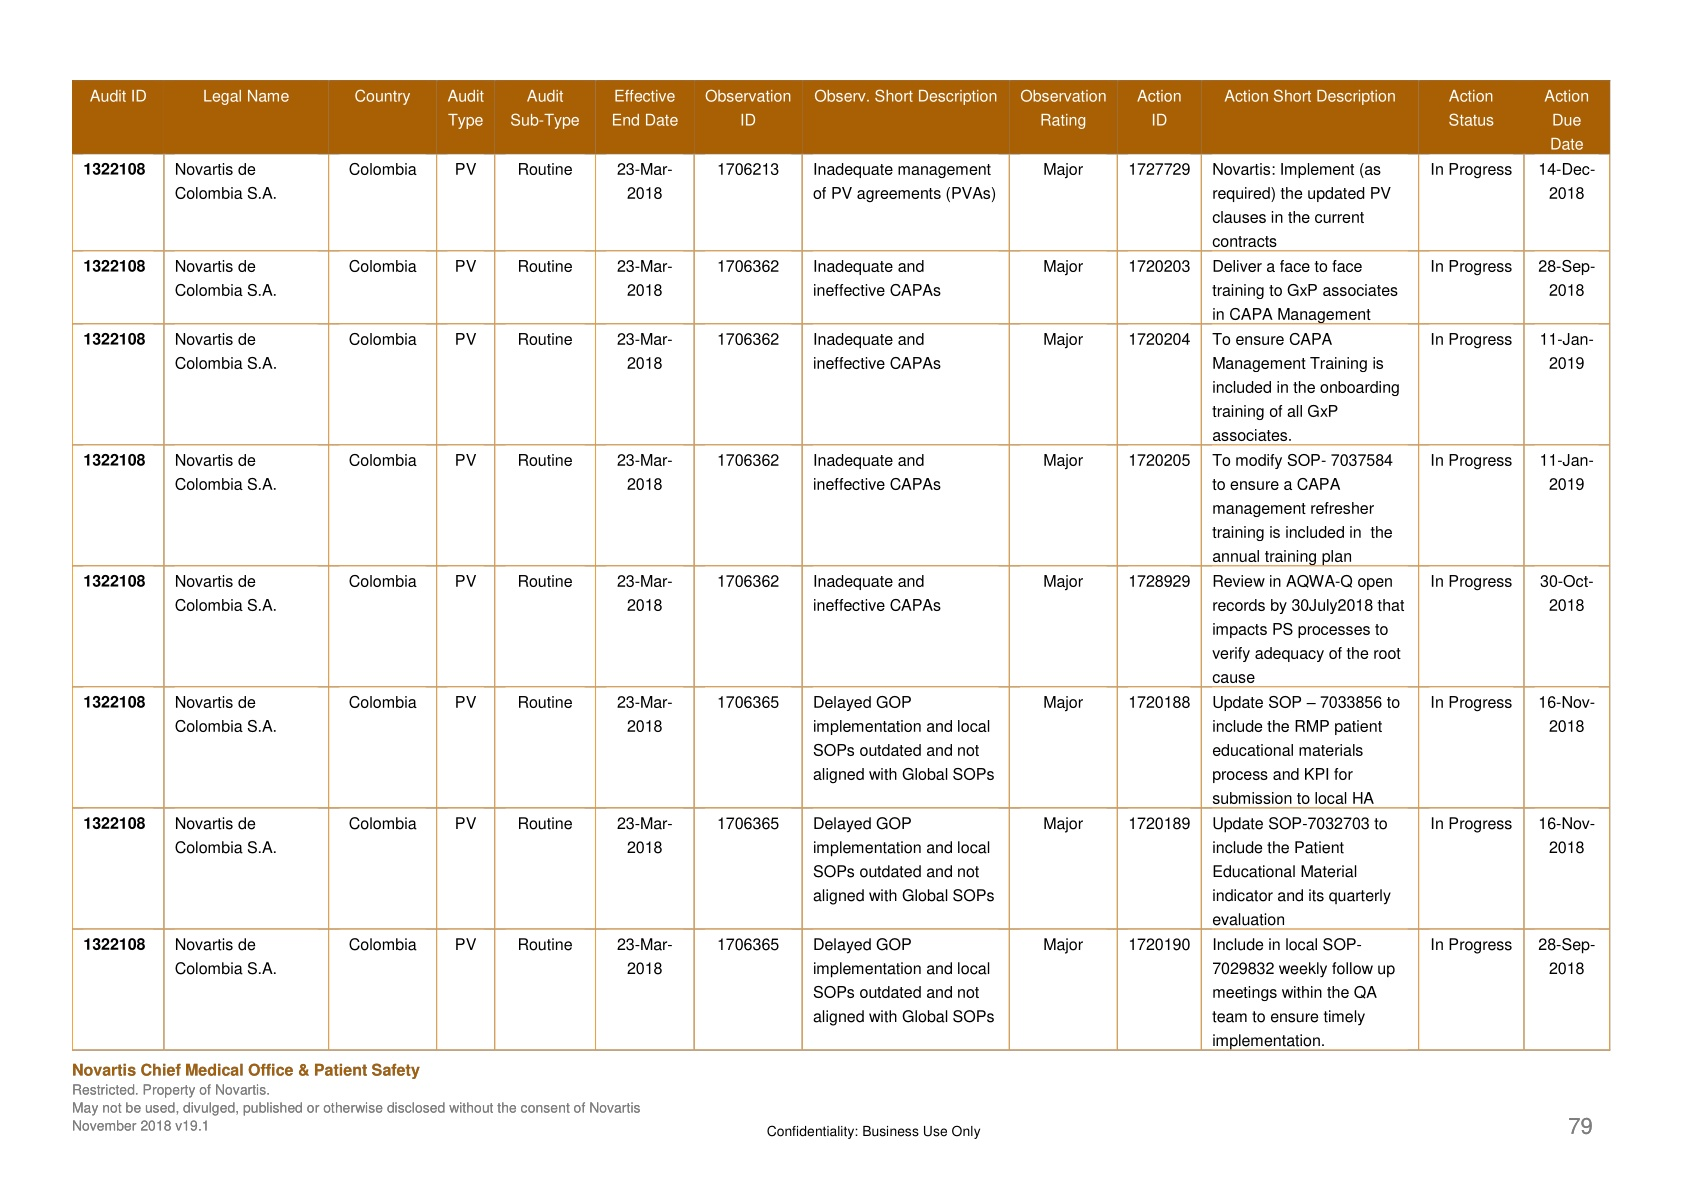full_lined: (72, 79, 1609, 1050)
